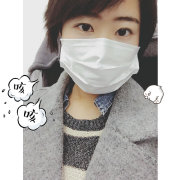face_mask: (60, 1, 139, 93)
